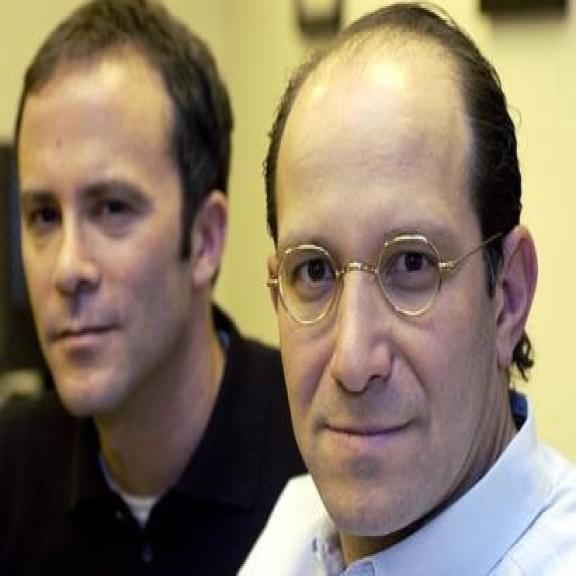face: (268, 51, 542, 538), (21, 56, 230, 420)
